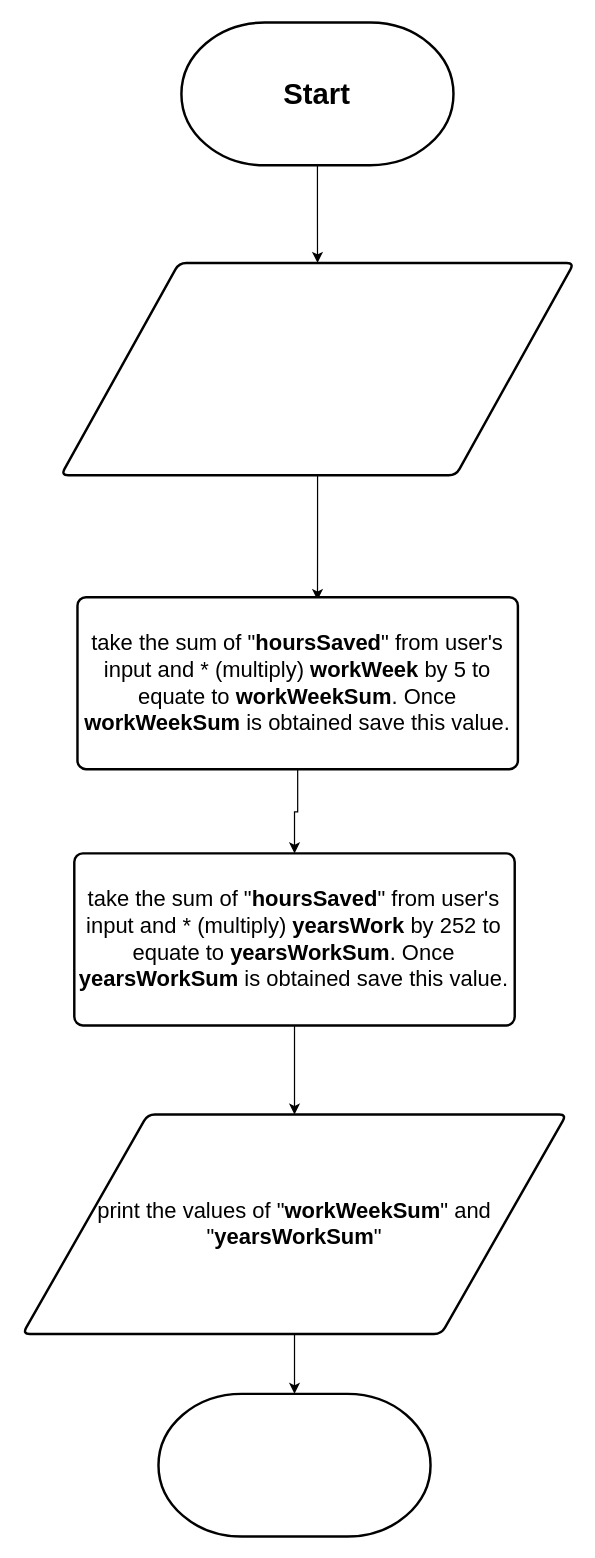
The diagram is 595 pixels wide and 1558 high, and some of its shapes have lost their labels. The shapes that lost their labels are listed below. From the top down, each one's centre as x and y in pixels, then its label:
[317,368]: input hours worked in a day from user, save/defined this as " hoursSaved "
[294,1464]: Stop
